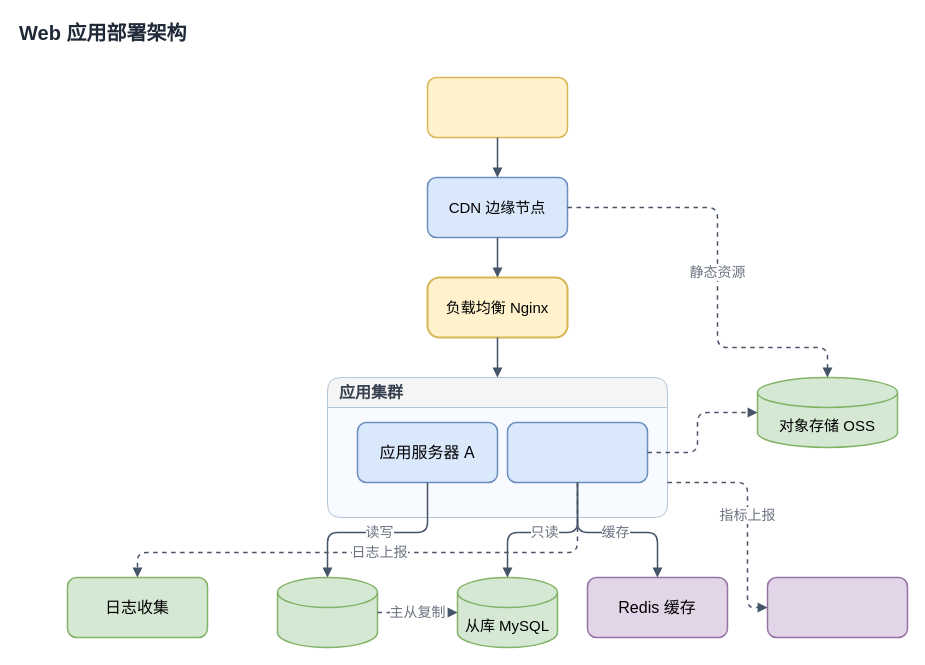
The diagram is 925 pixels wide and 665 high, and some of its shapes have lost their labels. Here are the shapes that lost their labels. From the top down, the centre of each, then its label:
At pixel 497 107: "用户浏览器".
At pixel 577 452: "应用服务器 B".
At pixel 327 612: "主库 MySQL".
At pixel 837 607: "监控告警".
